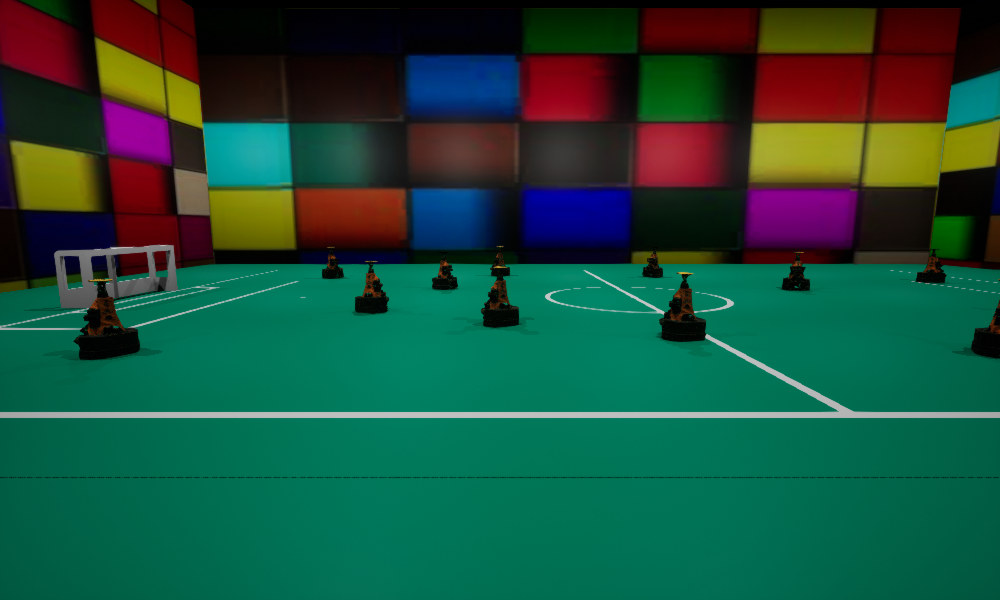0 orange robot TechUnited: (73, 279, 139, 358), (659, 272, 705, 341), (481, 266, 518, 326), (971, 279, 999, 358), (355, 261, 388, 313), (782, 252, 809, 290), (916, 249, 946, 282), (432, 252, 457, 289), (322, 247, 343, 278), (642, 247, 662, 277), (490, 246, 509, 275)
